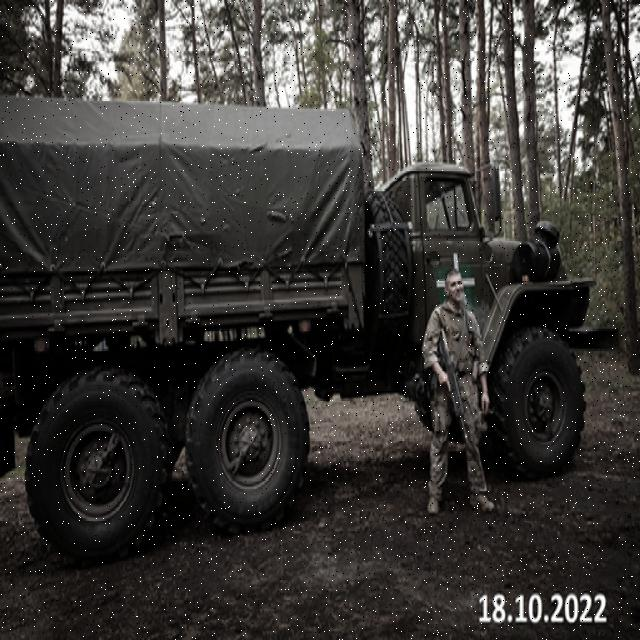TRUCK: (0, 89, 615, 553)
